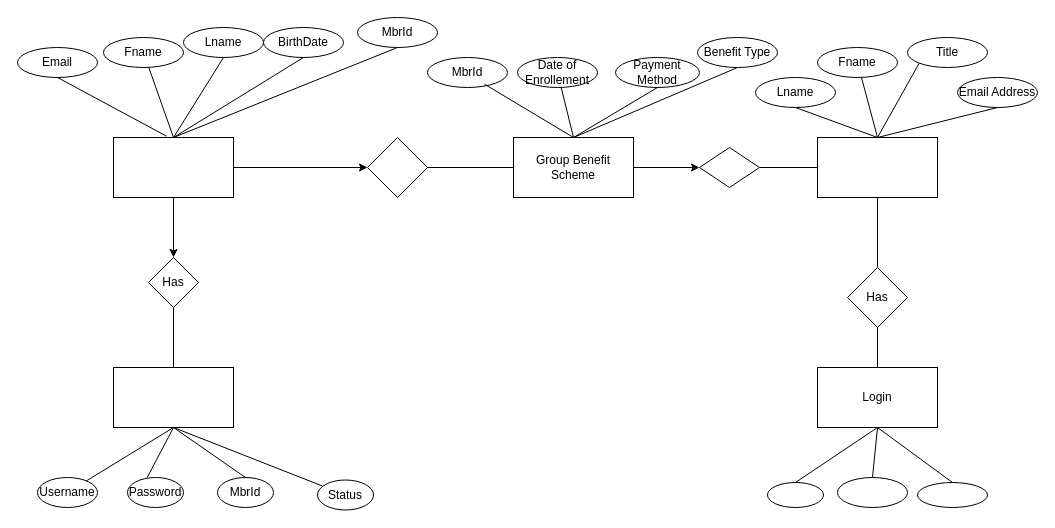
The diagram is 1055 pixels wide and 528 high, and some of its shapes have lost their labels. The centre of each missing label's shape, as x and y in pixels:
"Enrolls" goes at [397,167].
"LoginPassword" goes at [872,492].
"LoginUsername" goes at [952,495].
"LoinId" goes at [795,495].
"Managed" goes at [729,167].
"Member" goes at [173,167].
"Member Account" goes at [173,397].
"Official" goes at [877,167].
